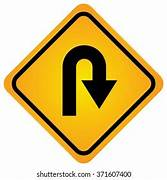back: (4, 4, 163, 163)
